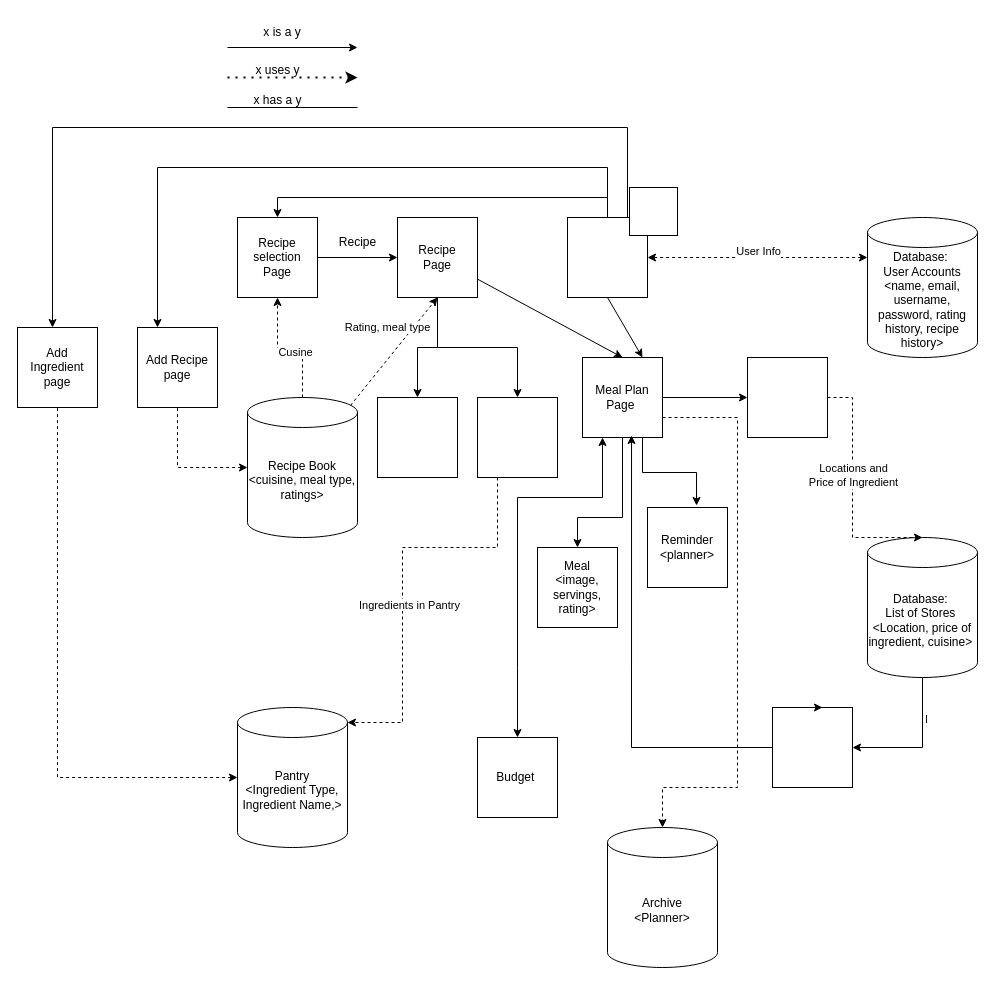
Image size: 995x985. Some labels were removed from this diagram. The shapes that lost their labels are listed below. From the top down, each one's centre as x and y in pixels, then its label:
At (653,211): "Sign Up".
At (607,257): "Login Page".
At (787,397): "Shopping List Page".
At (417,437): "Instruction Page".
At (517,437): "Ingredient checklist".
At (812,747): "Stores <location, hours, cost>".
